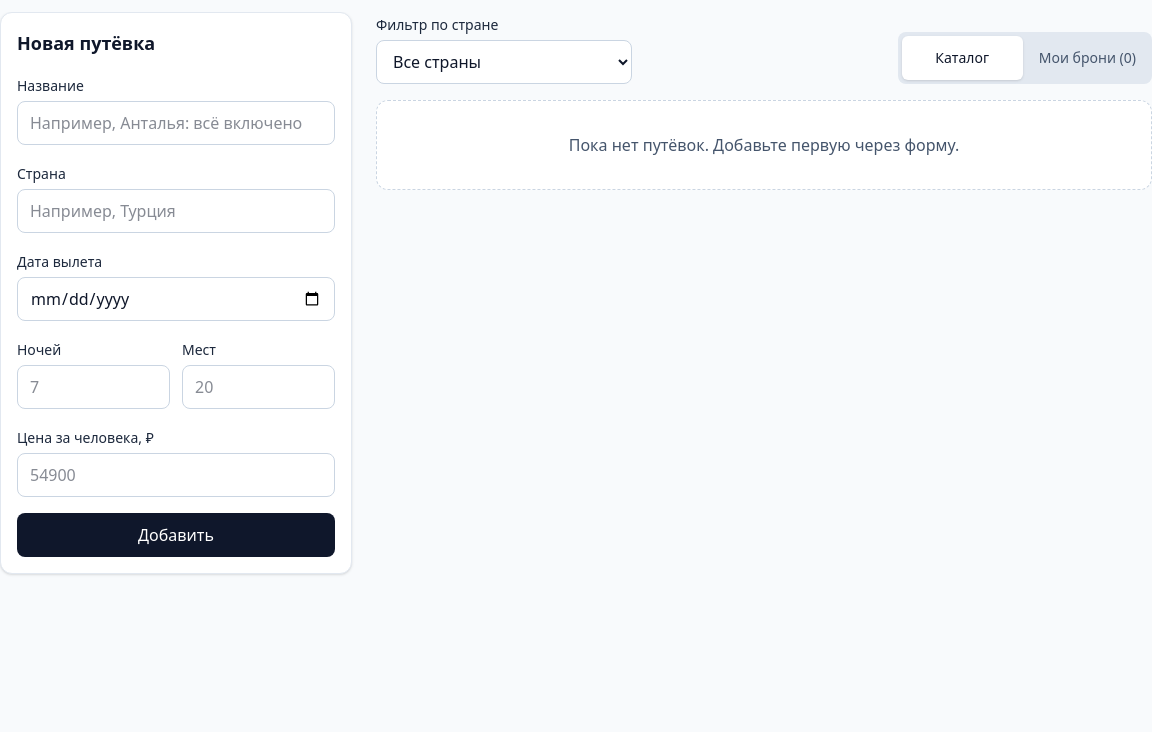
Test case: ToursPage › добавление тура через форму: тур появляется в каталоге
Expected: the text "Пока нет путёвок. Добавьте первую через форму." is shown, [376,100,1151,190]
Step 1. Type "Тбилиси" into the field labelled "Название" → (176, 123), box [17,101,335,145]
Step 2. Type "Грузия" into the field labelled "Страна" → (176, 211), box [17,189,335,233]
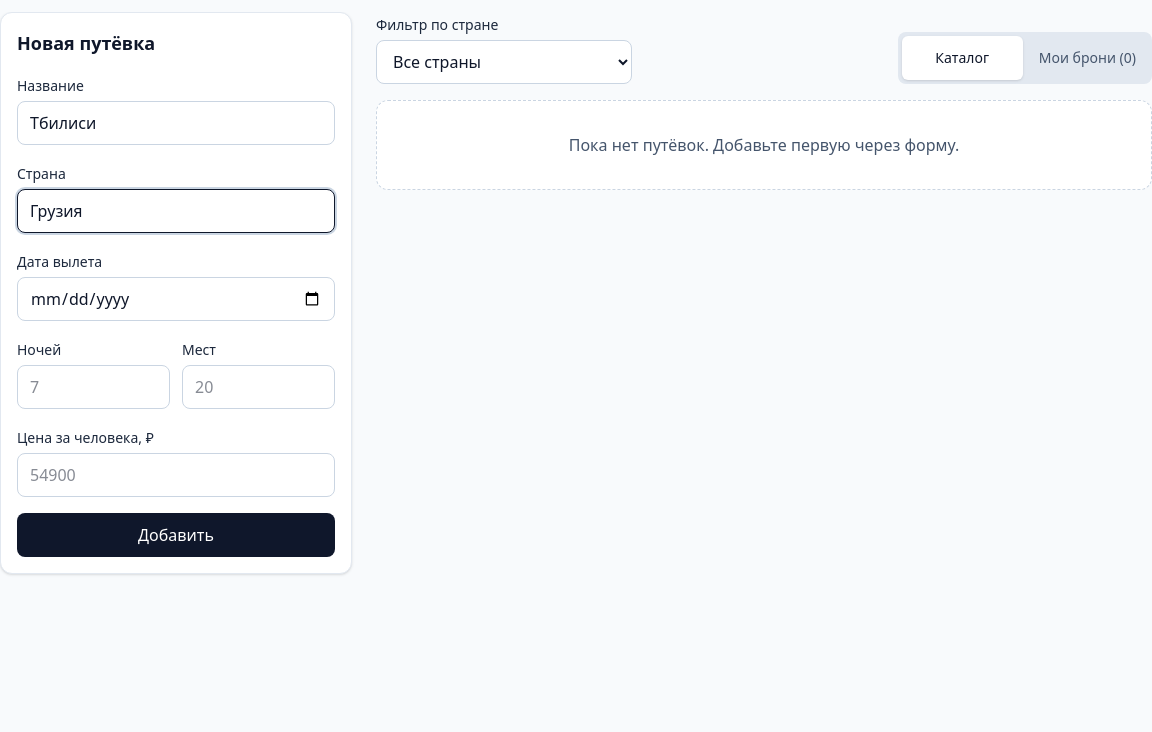
Step 3. Type "2026-11-08" into the date field labelled "Дата вылета" → (176, 299), box [17,277,335,321]
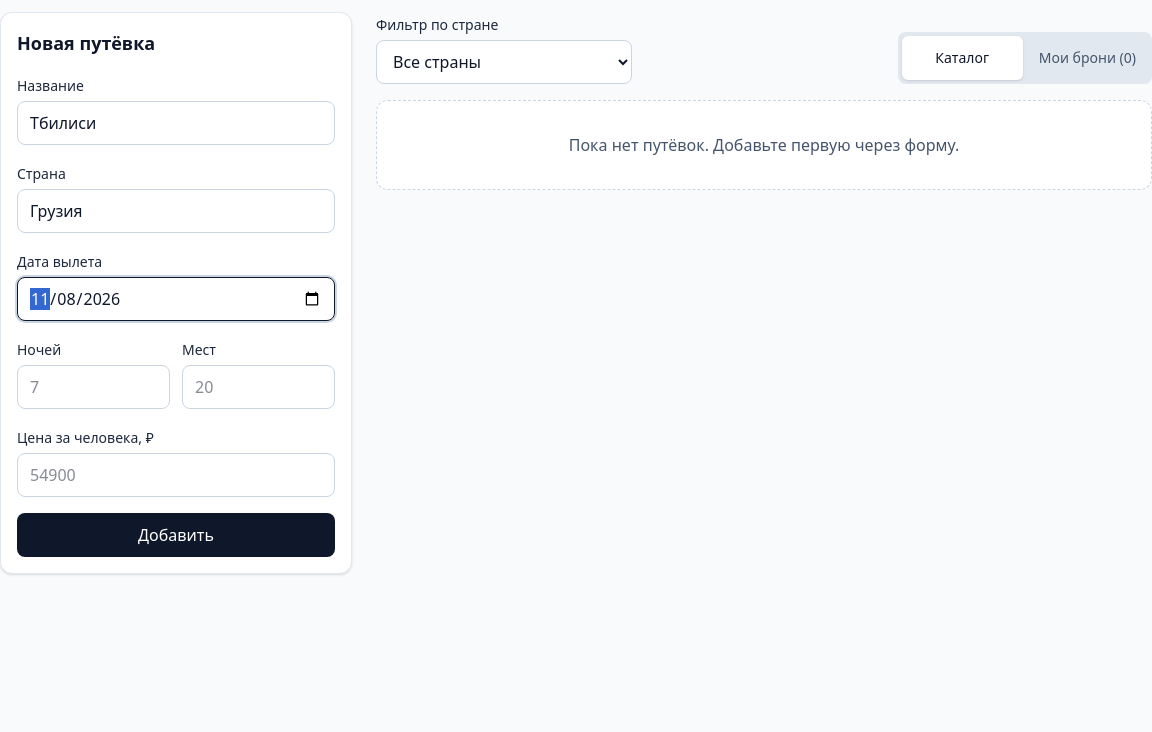
Step 4. Type "5" into the number field labelled "Ночей" → (94, 387), box [17,365,170,409]
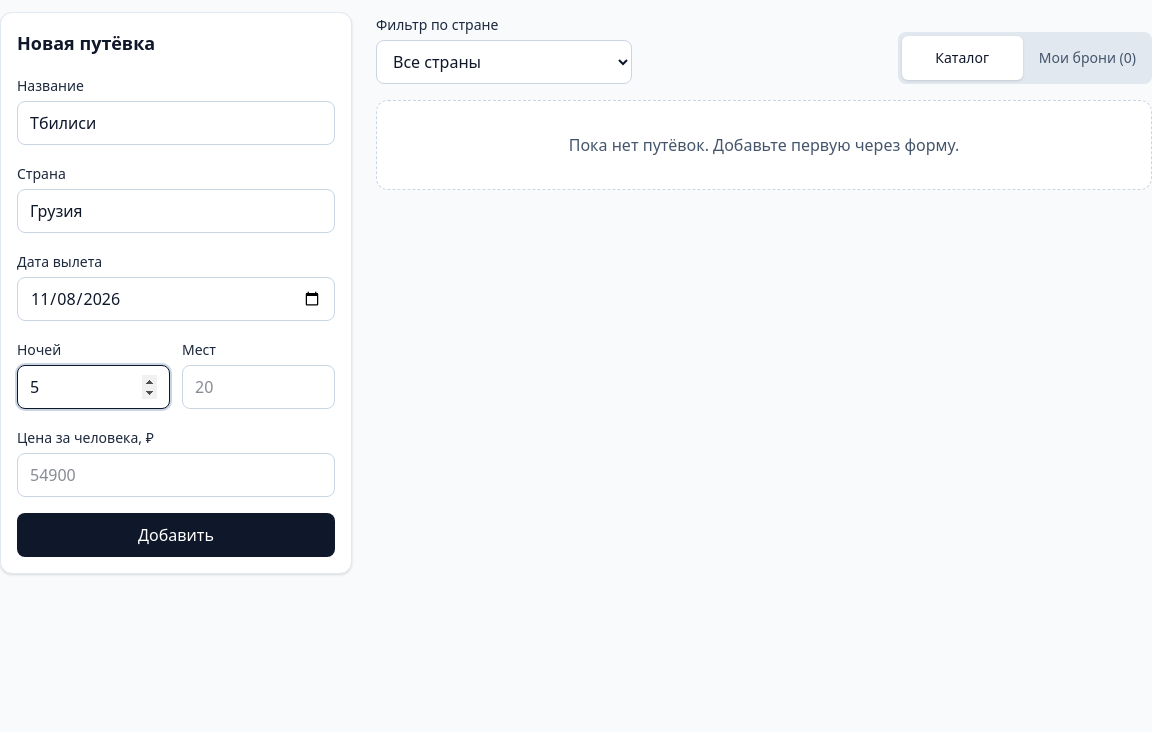
Step 5. Type "25" into the number field labelled "Мест" → (258, 387), box [182,365,335,409]
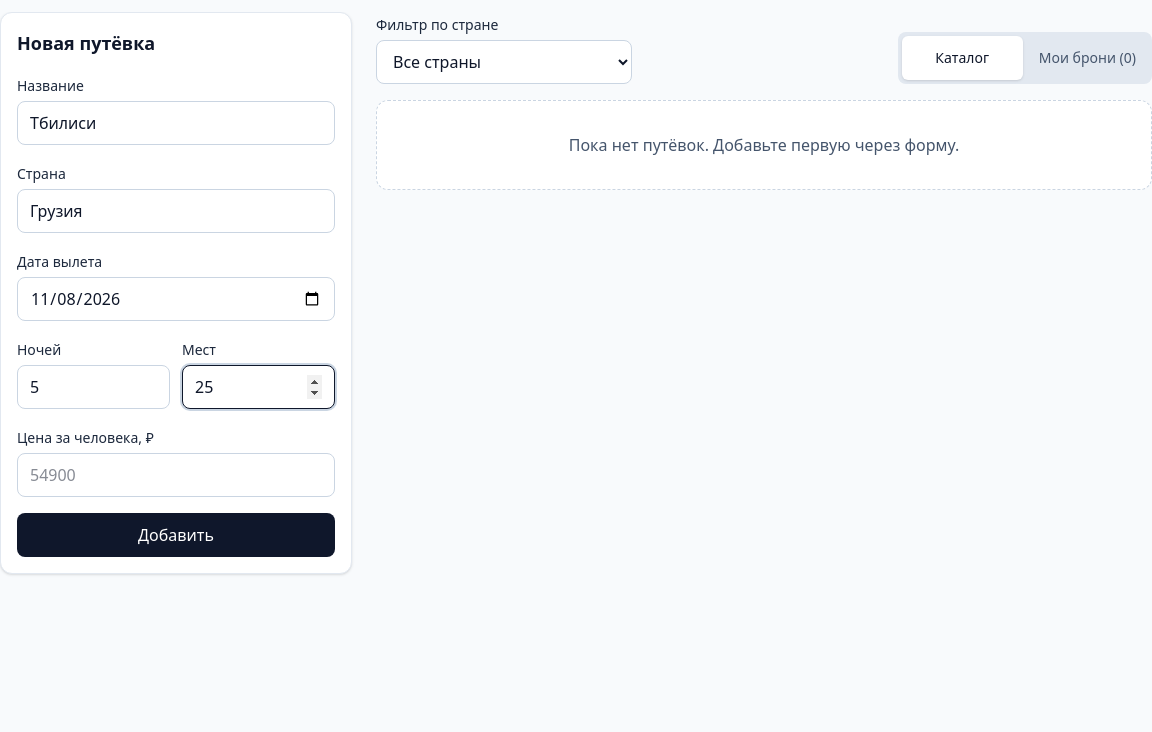
Step 6. Type "38700" into the number field labelled "Цена за человека, ₽" → (176, 475), box [17,453,335,497]
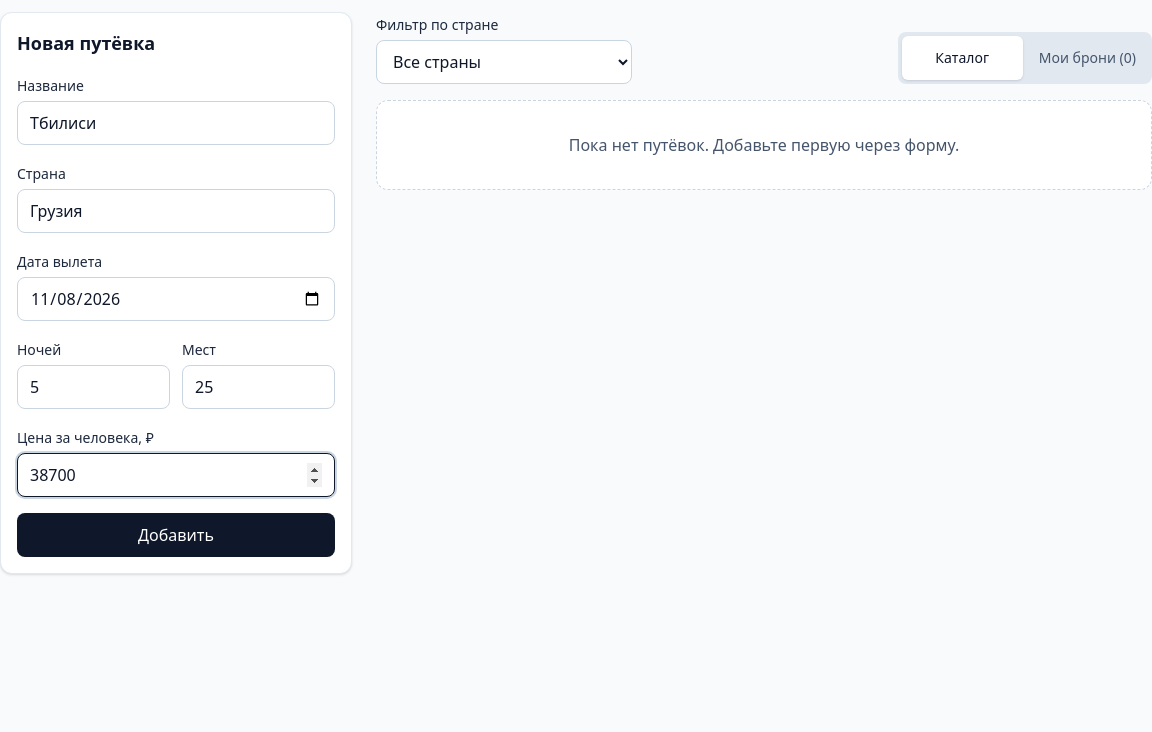
Step 7. Click the button "Добавить" → (176, 535), box [17,513,335,557]
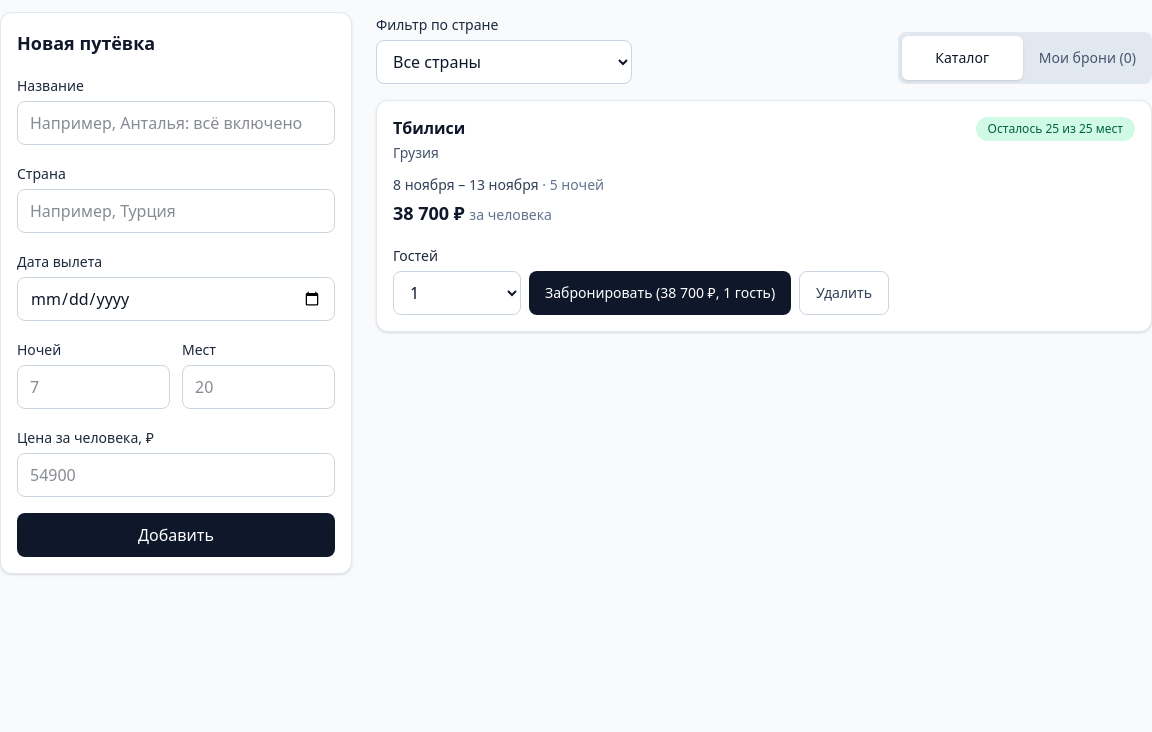
Result: the heading "Тбилиси" is shown at [393,117,465,139]
Result: the list item shows "38 700 ₽" at [393,201,465,225]
Result: the list item shows "Осталось 25 из 25 мест" at [988,120,1123,137]
